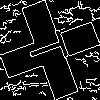T: (25, 25, 78, 69)
